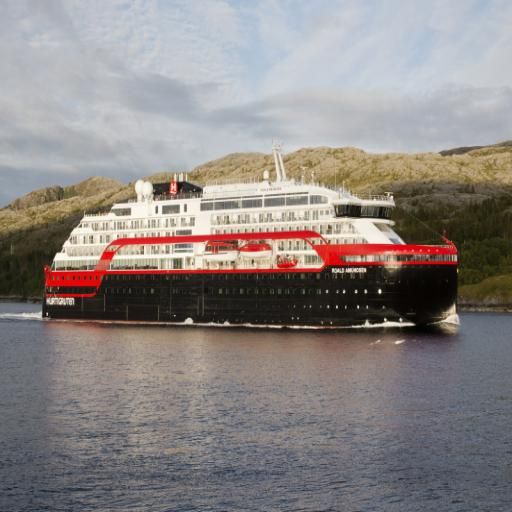cruises: (40, 141, 467, 337)
